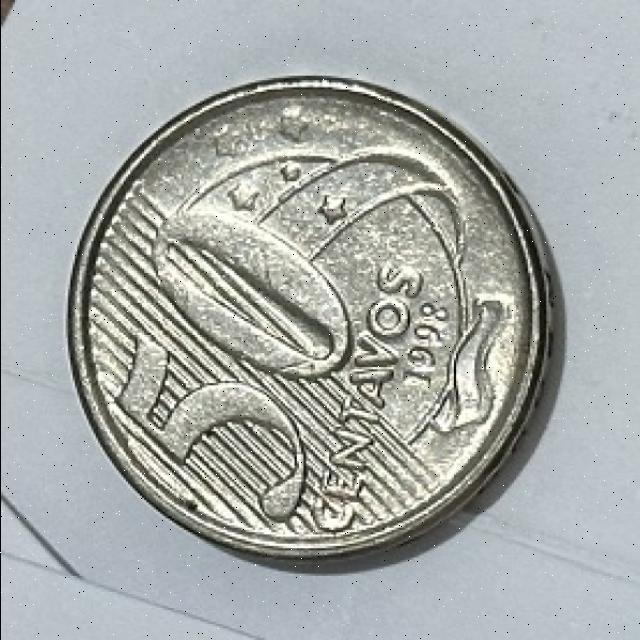50 cent: (62, 76, 555, 570)
